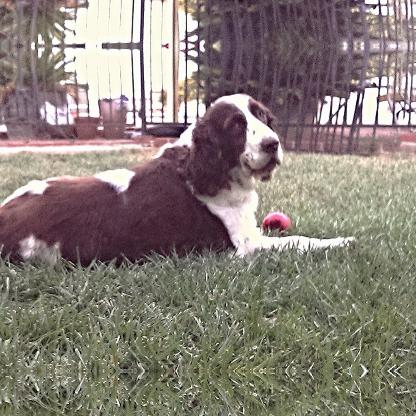Dog: (0, 92, 356, 272)
